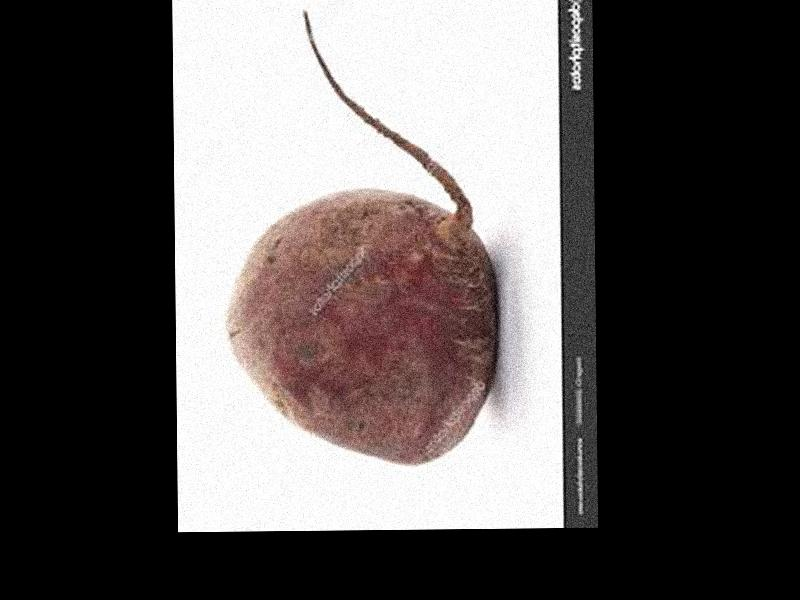Beet: (226, 10, 499, 466)
